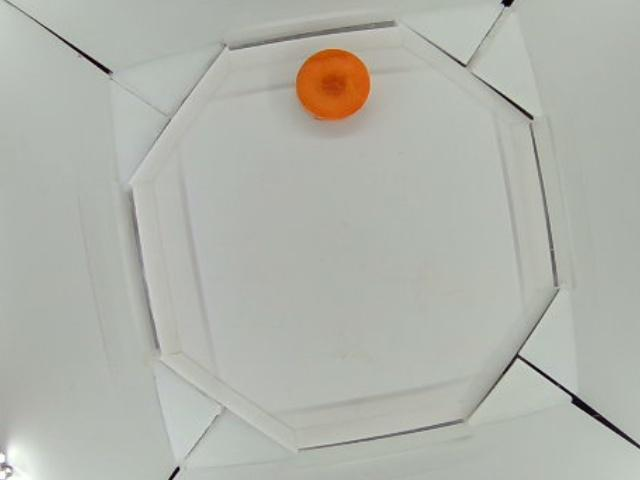Carrot: (297, 49, 371, 121)
